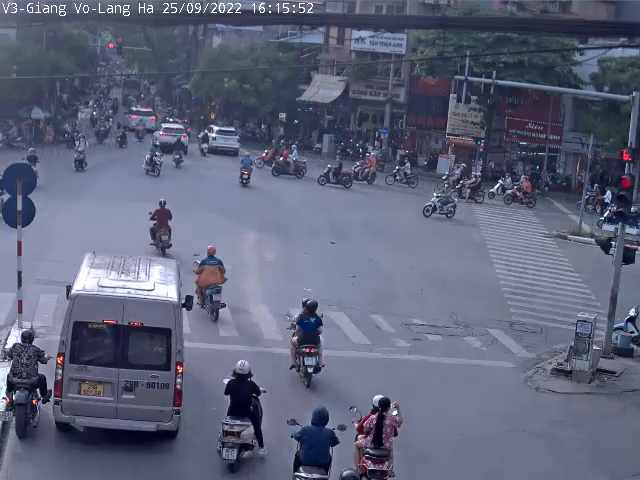người trên xe: (0, 328, 61, 445), (210, 359, 271, 472), (339, 394, 416, 477), (279, 399, 345, 480), (281, 298, 334, 390), (187, 248, 244, 326), (135, 192, 178, 261), (237, 151, 256, 190), (164, 135, 187, 167)
